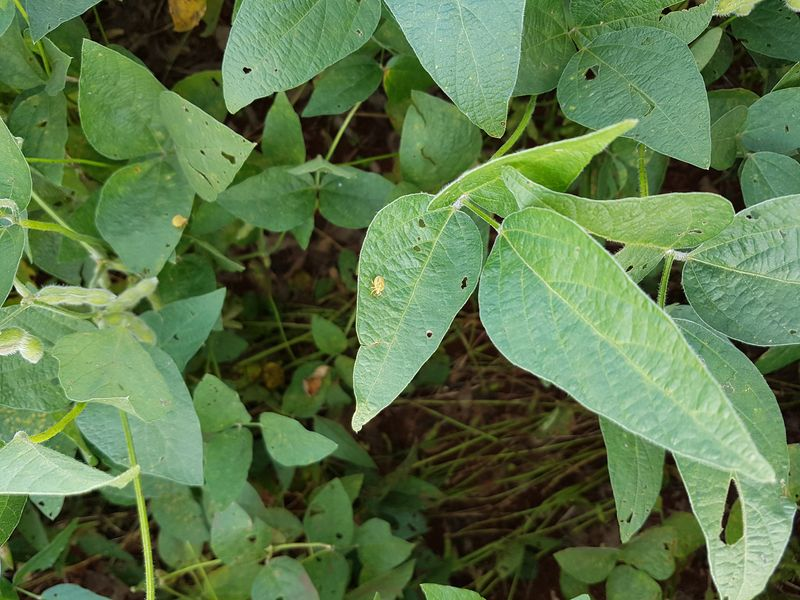Euschistus_heros_ninfa: (365, 273, 390, 298), (168, 210, 192, 232)
